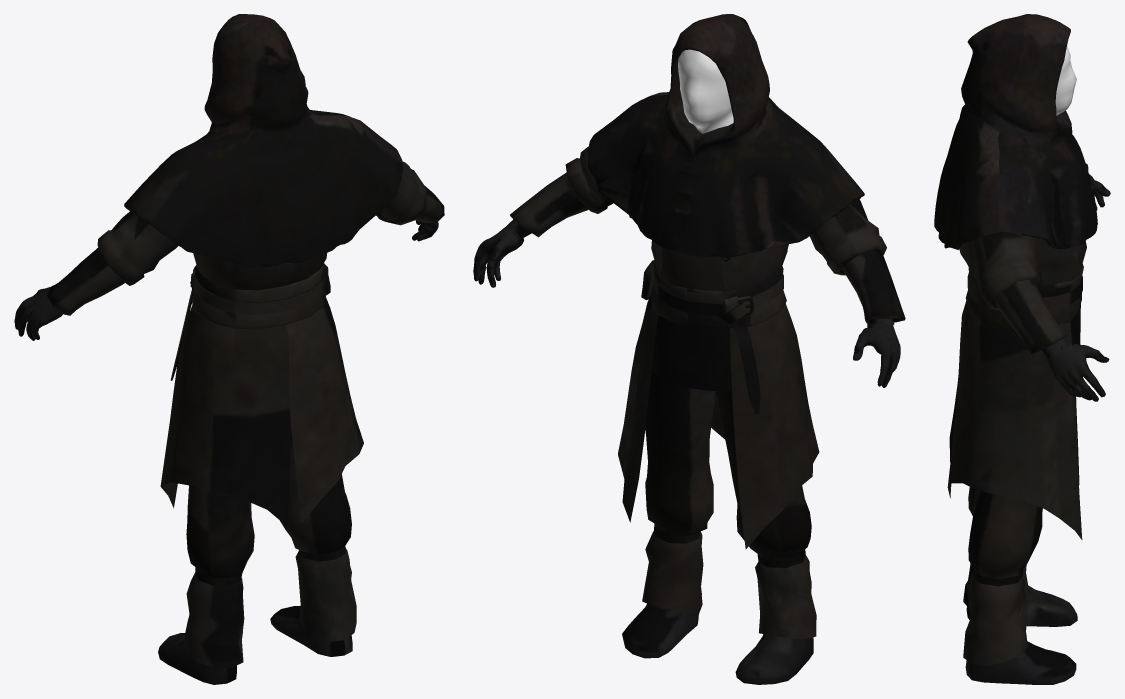
3 views of the same model, side by side, from view 1: azimuth 30°, elevation 25°; view 2: azimuth 150°, elevation 25°; view 3: azimuth 270°, elevation 25° (orthographic).
Parts seen in each view (by area): view 1: mesh_0; view 2: mesh_0; view 3: mesh_0.
Boxes of the visible parts, box(x1,y1,x2,y2) form: mesh_0: box(14, 14, 444, 684); mesh_0: box(473, 14, 905, 684); mesh_0: box(934, 14, 1110, 684).
Size of the model in its own units: 50.19 by 72.66 by 18.48.
Materials: 1 (1 with a texture image).
